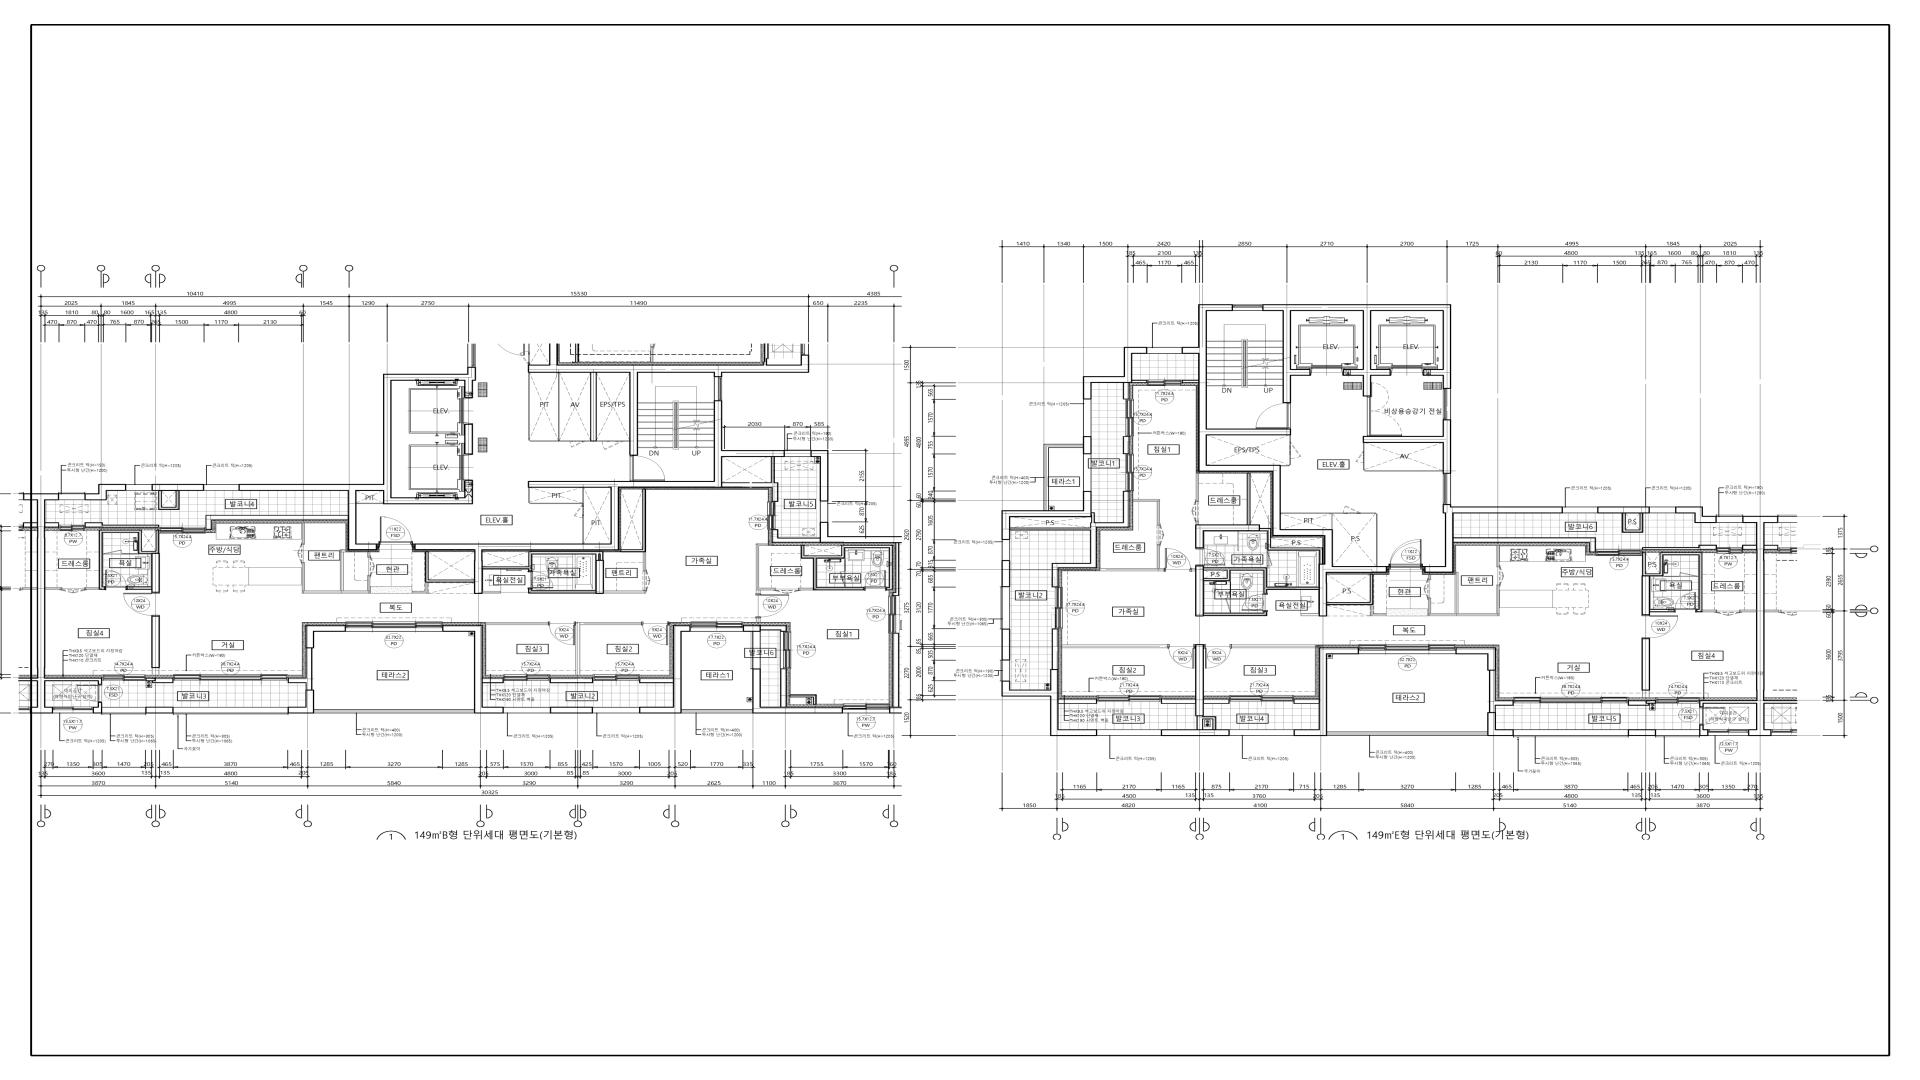door: (1367, 397, 1402, 436), (1390, 539, 1423, 570), (629, 455, 666, 481), (378, 517, 413, 545), (1255, 402, 1291, 429), (123, 592, 160, 616), (756, 593, 790, 618), (1642, 616, 1679, 638), (1167, 645, 1195, 669), (1204, 645, 1232, 669), (549, 622, 575, 646), (1164, 549, 1191, 572), (642, 622, 670, 645), (1195, 549, 1225, 566), (75, 684, 102, 703), (1242, 593, 1269, 612), (1675, 592, 1697, 613), (864, 571, 887, 591), (104, 570, 128, 589), (529, 571, 554, 589), (1700, 708, 1725, 725), (1291, 442, 1302, 459), (61, 587, 84, 593), (1156, 525, 1164, 545), (1717, 609, 1741, 616), (297, 545, 305, 563), (1497, 567, 1505, 585), (644, 571, 650, 591), (1192, 501, 1199, 521), (775, 588, 799, 593), (368, 558, 375, 576), (1424, 580, 1431, 599), (1344, 506, 1361, 513), (839, 571, 845, 587), (1225, 597, 1232, 613), (1356, 451, 1364, 463), (103, 550, 123, 554), (1267, 551, 1273, 566), (1680, 572, 1698, 576)
wall: (414, 401, 785, 595), (1183, 305, 1387, 617), (239, 368, 476, 551), (527, 344, 723, 456), (289, 625, 504, 713), (1262, 305, 1452, 404), (640, 625, 843, 713), (37, 493, 102, 713), (1195, 473, 1323, 564), (1010, 491, 1130, 587), (1424, 504, 1563, 574), (820, 522, 939, 596), (483, 551, 646, 593), (1001, 669, 1097, 736), (1191, 566, 1319, 616), (1160, 645, 1230, 729), (1294, 647, 1360, 736), (1280, 513, 1377, 566), (1364, 419, 1452, 473), (1642, 553, 1717, 616), (84, 530, 160, 593), (1743, 516, 1764, 736), (1001, 491, 1092, 541), (799, 545, 893, 591), (287, 625, 345, 690), (575, 622, 642, 675), (1083, 347, 1147, 400), (1428, 572, 1499, 616), (302, 550, 371, 593), (413, 551, 473, 593), (1327, 574, 1386, 616), (723, 458, 778, 501), (1364, 443, 1443, 472), (206, 514, 348, 530), (620, 489, 646, 571), (1453, 538, 1596, 553), (1101, 545, 1164, 571), (1489, 671, 1514, 712), (756, 543, 775, 593), (1456, 647, 1497, 671), (811, 450, 828, 501), (890, 696, 939, 713), (86, 484, 127, 501), (1676, 506, 1717, 524), (1133, 500, 1160, 525), (771, 530, 820, 543), (1487, 712, 1514, 736), (893, 633, 899, 707), (152, 616, 160, 675), (1642, 640, 1650, 698), (591, 373, 597, 442), (1160, 729, 1229, 736), (1700, 700, 1756, 708), (1062, 645, 1168, 649), (158, 491, 179, 510), (1622, 513, 1643, 533), (84, 522, 160, 527), (1642, 545, 1717, 550), (1597, 506, 1650, 513), (152, 484, 204, 491), (893, 543, 899, 596), (1280, 435, 1291, 467), (1232, 645, 1315, 649), (1001, 629, 1010, 661), (550, 707, 593, 713), (744, 625, 787, 632), (464, 425, 473, 455), (1204, 571, 1230, 582), (790, 695, 816, 705), (1052, 629, 1059, 669), (930, 632, 939, 659), (781, 669, 787, 707), (550, 678, 593, 683), (1002, 560, 1010, 587), (1059, 699, 1097, 704), (1629, 729, 1656, 736), (146, 707, 173, 713), (640, 678, 673, 683), (1083, 436, 1092, 455), (485, 622, 549, 625), (1629, 700, 1656, 705), (146, 678, 173, 683), (1294, 699, 1319, 704), (1122, 382, 1129, 400), (1124, 436, 1130, 454), (92, 703, 103, 713), (483, 678, 504, 683), (1700, 725, 1709, 736), (1742, 545, 1756, 550), (1196, 473, 1199, 501), (45, 522, 58, 527), (302, 522, 305, 545), (1497, 546, 1499, 567), (483, 591, 501, 593), (1300, 613, 1319, 616), (1182, 380, 1199, 382), (1131, 380, 1147, 382), (45, 587, 61, 589), (1741, 609, 1756, 612), (1230, 582, 1232, 597), (756, 618, 761, 622), (368, 551, 371, 558), (1664, 576, 1680, 576), (1267, 554, 1267, 555)
window: (1043, 444, 1083, 510), (173, 674, 289, 683), (345, 621, 443, 632), (173, 707, 289, 715), (1514, 729, 1629, 737), (1358, 645, 1456, 654), (1327, 732, 1487, 736), (1514, 698, 1629, 703), (691, 622, 744, 632), (1000, 587, 1010, 629), (843, 704, 890, 713), (779, 632, 791, 669), (160, 525, 206, 534), (1229, 729, 1294, 736), (1230, 695, 1294, 702), (1097, 729, 1160, 736), (1097, 695, 1160, 702), (750, 632, 761, 670), (889, 596, 899, 633), (593, 675, 640, 683), (504, 675, 550, 683), (102, 707, 146, 715), (1656, 729, 1700, 737), (930, 596, 939, 633), (930, 659, 939, 696), (1083, 400, 1092, 436), (1055, 587, 1063, 629), (1083, 455, 1092, 491), (767, 501, 778, 530), (593, 707, 640, 713), (504, 707, 550, 713), (1596, 550, 1642, 556), (102, 675, 146, 682), (1126, 400, 1134, 436), (1126, 454, 1134, 491), (53, 707, 92, 713), (1709, 729, 1749, 736), (58, 492, 86, 501), (58, 522, 84, 531), (1717, 514, 1743, 524), (1443, 389, 1451, 419), (1443, 473, 1451, 504), (1147, 347, 1183, 353), (1656, 698, 1700, 703), (204, 484, 239, 491), (1563, 506, 1597, 513), (1147, 380, 1182, 386), (1000, 661, 1010, 682), (713, 377, 723, 401), (785, 450, 811, 458), (1233, 305, 1262, 311), (1650, 506, 1676, 513), (820, 501, 828, 522), (127, 484, 152, 491), (1717, 547, 1742, 554), (1002, 541, 1010, 560)
